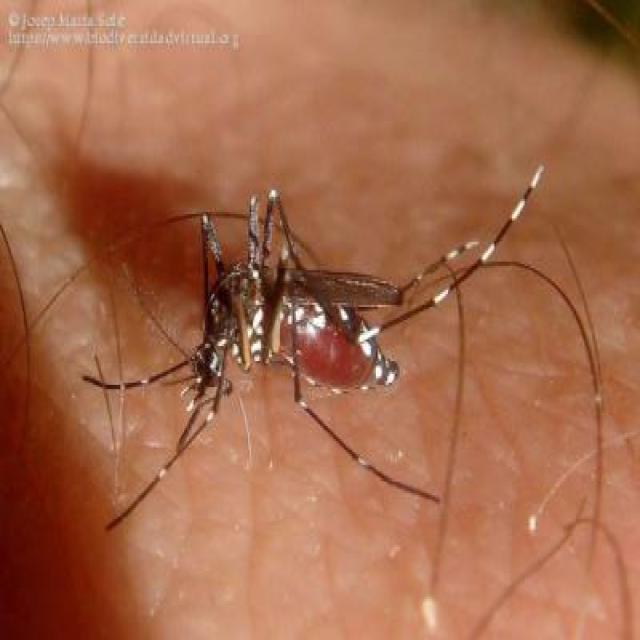body: (198, 261, 399, 392)
insect: (82, 164, 543, 534)
legs: (87, 288, 229, 532), (357, 163, 542, 342), (286, 388, 462, 520), (191, 185, 307, 265)
wings: (265, 256, 403, 312)
